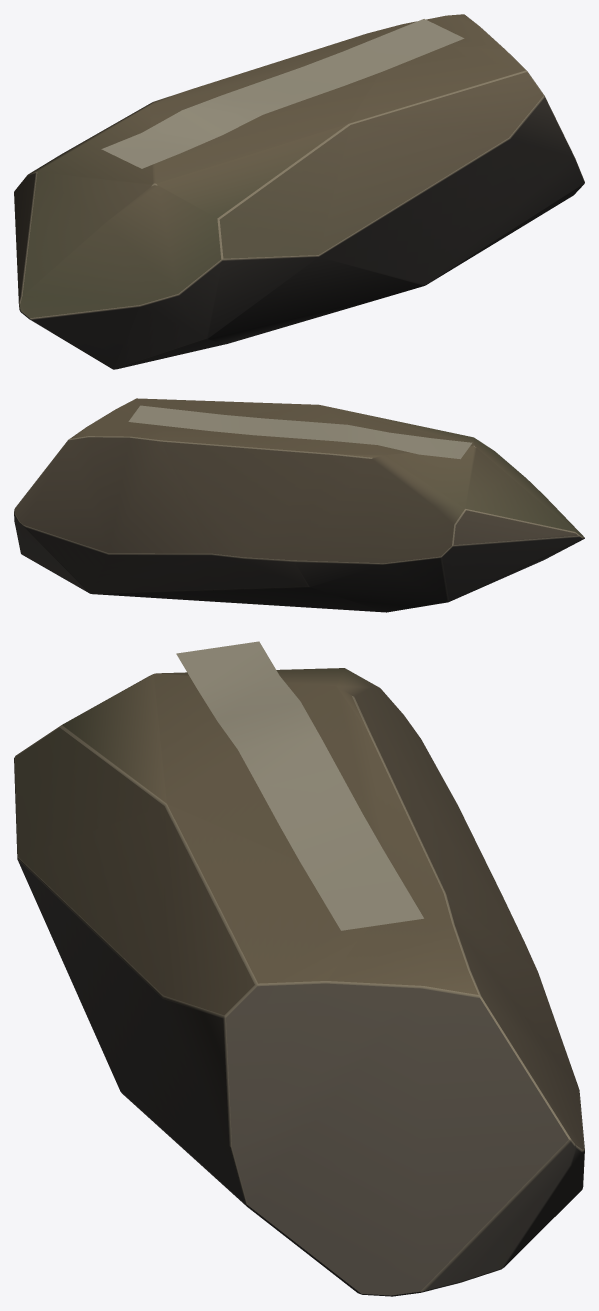
The model's file is boulder_tick.glb.
The picture shows the model from 3 angles, top to bottom: view 1: azimuth 30°, elevation 25°; view 2: azimuth 150°, elevation 25°; view 3: azimuth 270°, elevation 25°; orthographic projection. The views are drawn at different scales.
Parts seen in each view (by area): view 1: boulder_tick; view 2: boulder_tick; view 3: boulder_tick.
Part boxes in pixels (bbox=[...]): boulder_tick: bbox=[14, 14, 584, 369]; boulder_tick: bbox=[14, 398, 584, 612]; boulder_tick: bbox=[14, 641, 584, 1296].
Bounding box in the file's own units: 0.9387 × 0.2865 × 0.4984.
